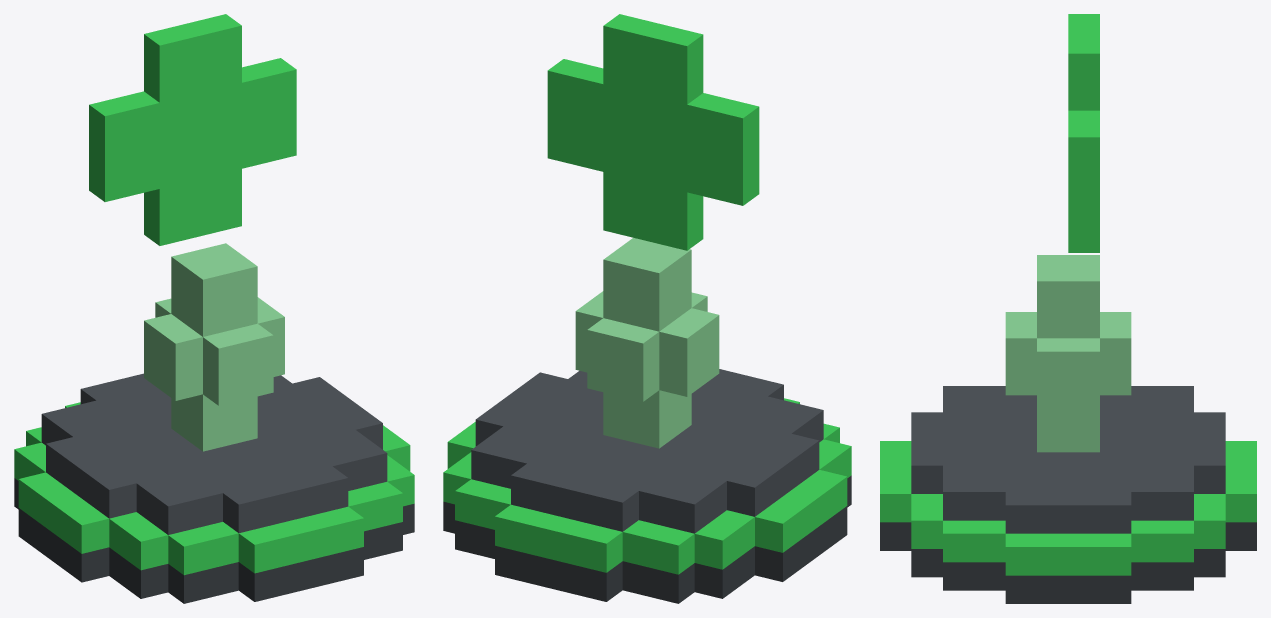
The model's file is prop_buff_heal.glb.
3 views of the same model, side by side, from view 1: azimuth 30°, elevation 25°; view 2: azimuth 150°, elevation 25°; view 3: azimuth 270°, elevation 25° (orthographic). The views are drawn at different scales.
Parts seen in each view (by area): view 1: prop_buff_heal; view 2: prop_buff_heal; view 3: prop_buff_heal.
Part boxes in pixels (x1=…): prop_buff_heal: x1=14, y1=14, x2=414, y2=603; prop_buff_heal: x1=443, y1=14, x2=851, y2=603; prop_buff_heal: x1=880, y1=14, x2=1256, y2=603.
Bounding box in the file's own units: 0.6 × 0.85 × 0.6.
